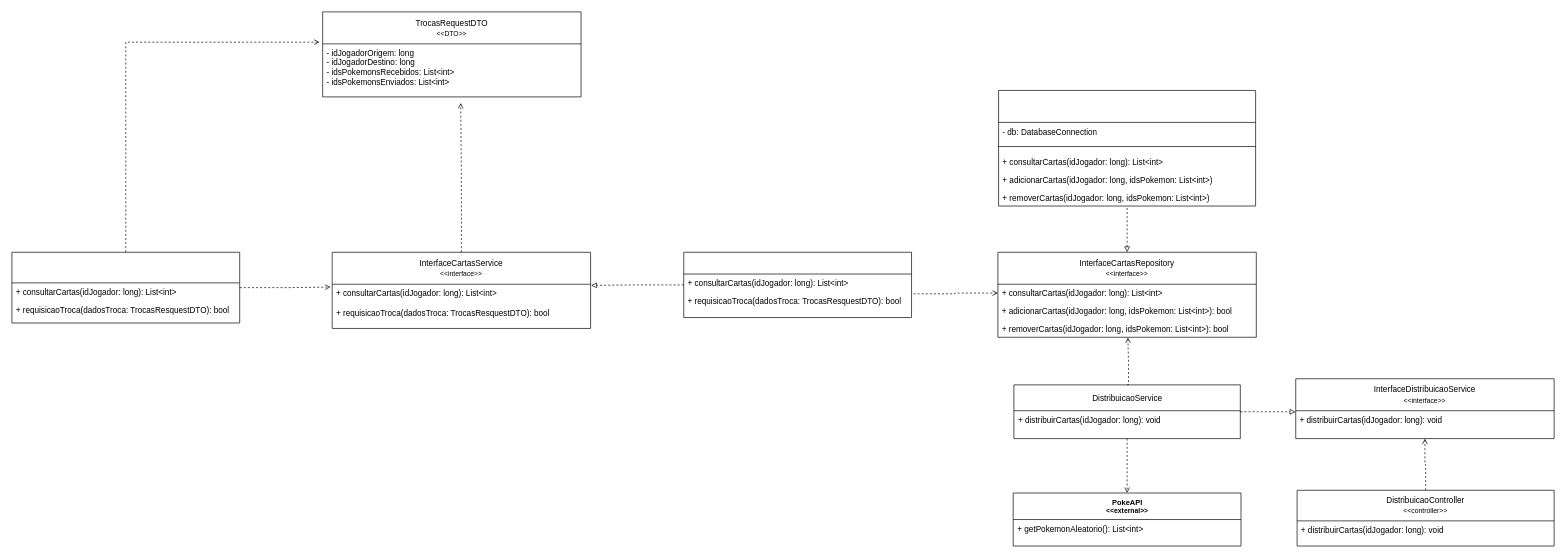
This 1566x560 diagram has some shape labels left out. Each missing label, with the box of its shape:
CartasController <<controller>>: (11, 252, 240, 323)
CartasRepository <<repository>>: (998, 90, 1256, 206)
CartasService: (683, 252, 912, 318)
